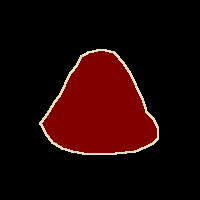hat: (40, 50, 158, 154)
